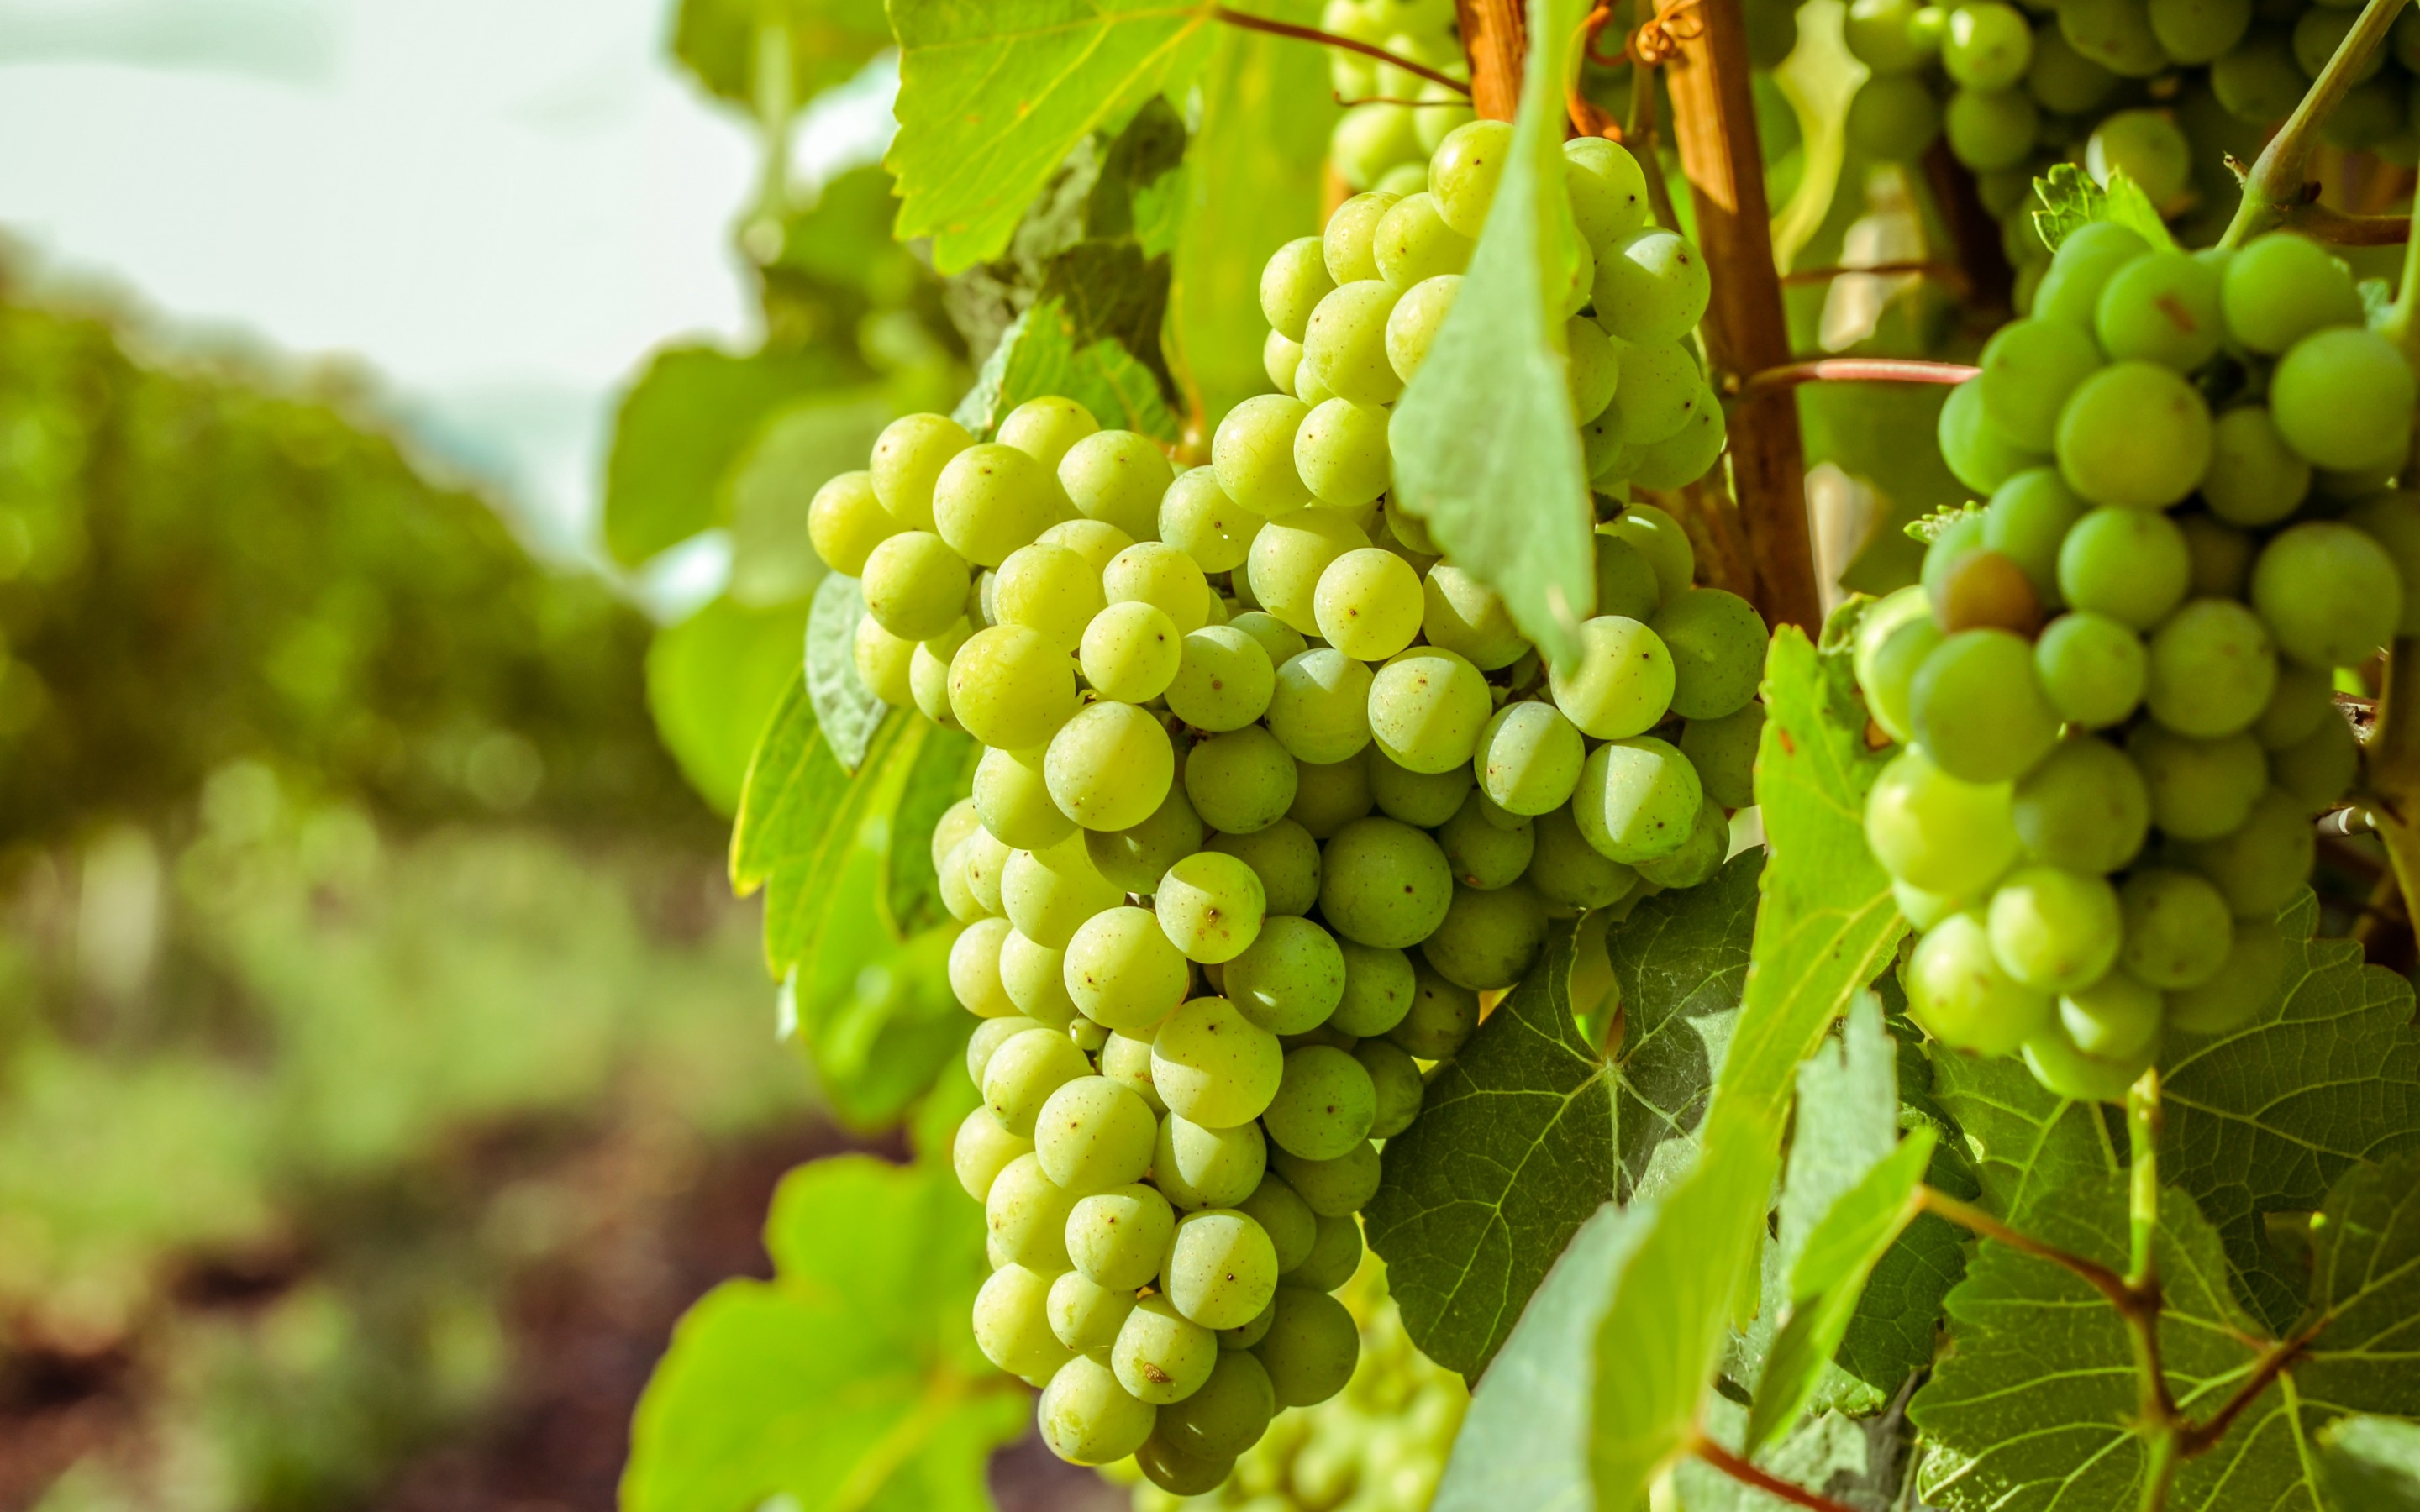grapes: (838, 434, 1704, 1491), (1908, 214, 2371, 1063), (1286, 169, 1720, 519)
